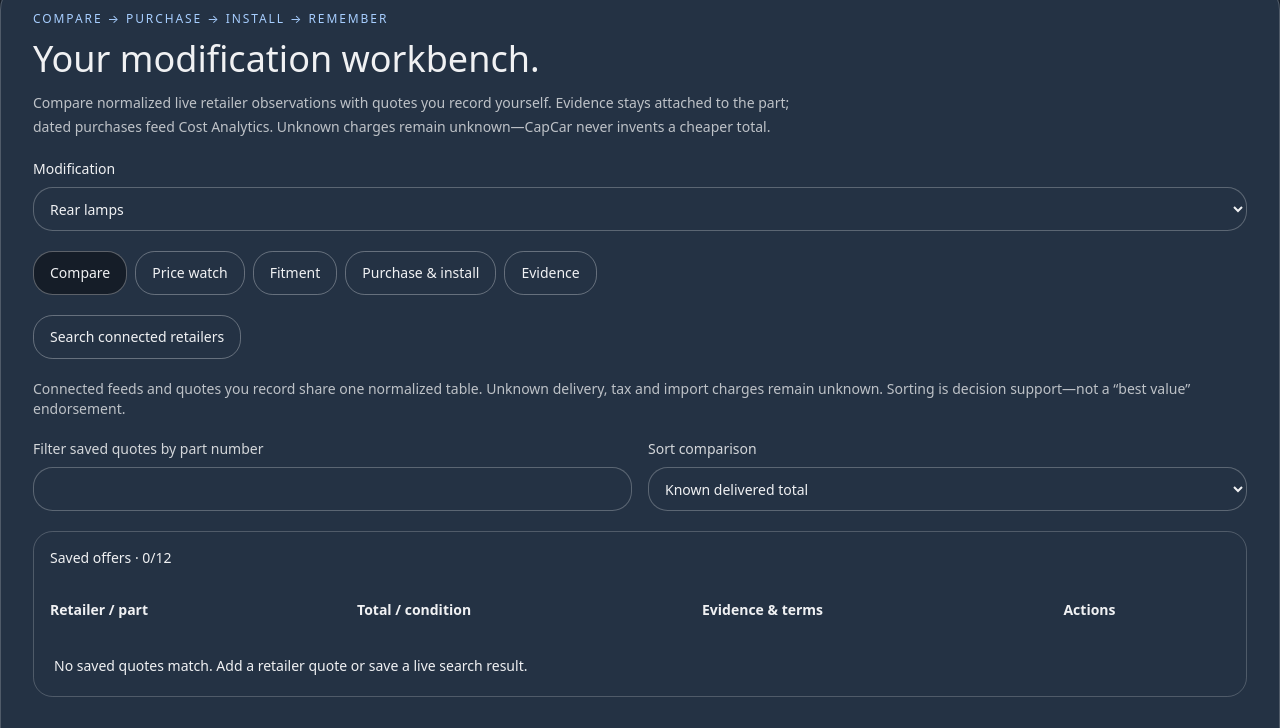
Test: build workbench interaction › preserves entered dates after an invalid sequence
Click the button "Purchase & install": (421, 273) [345,251,496,295]
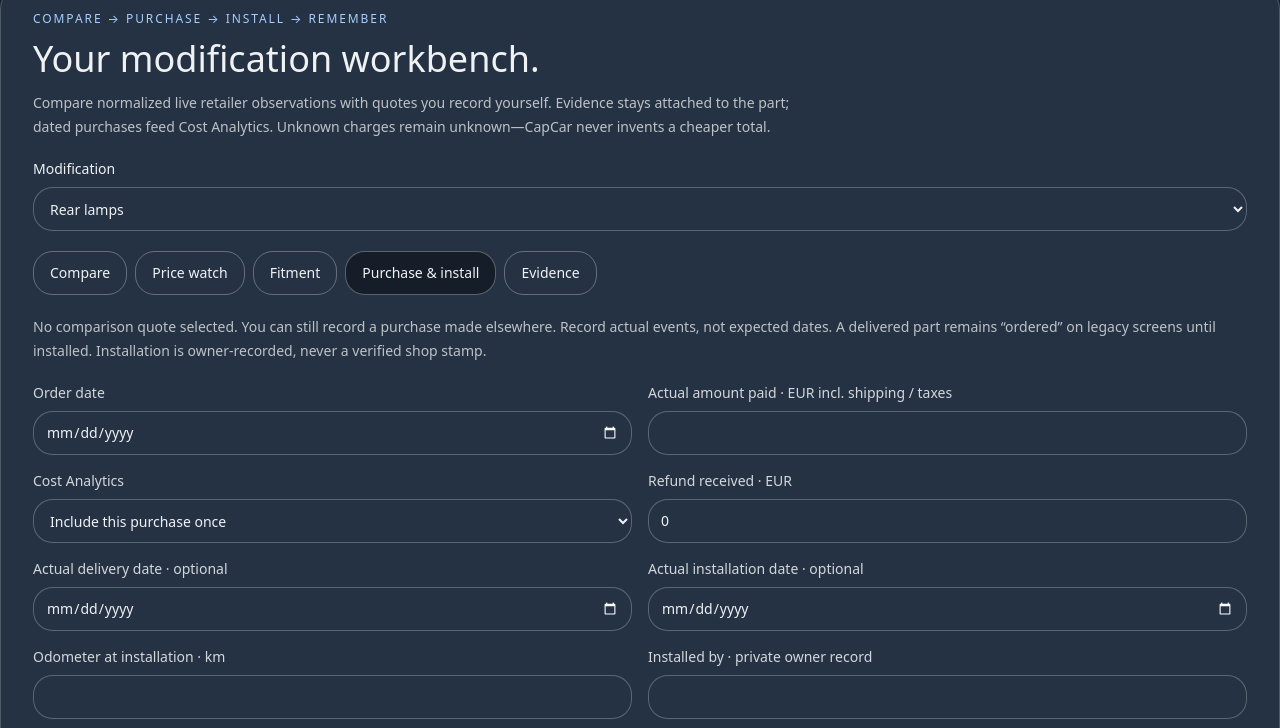
In the date field labelled "Order date": (332, 433) [33,411,632,455], type "2026-09-03"
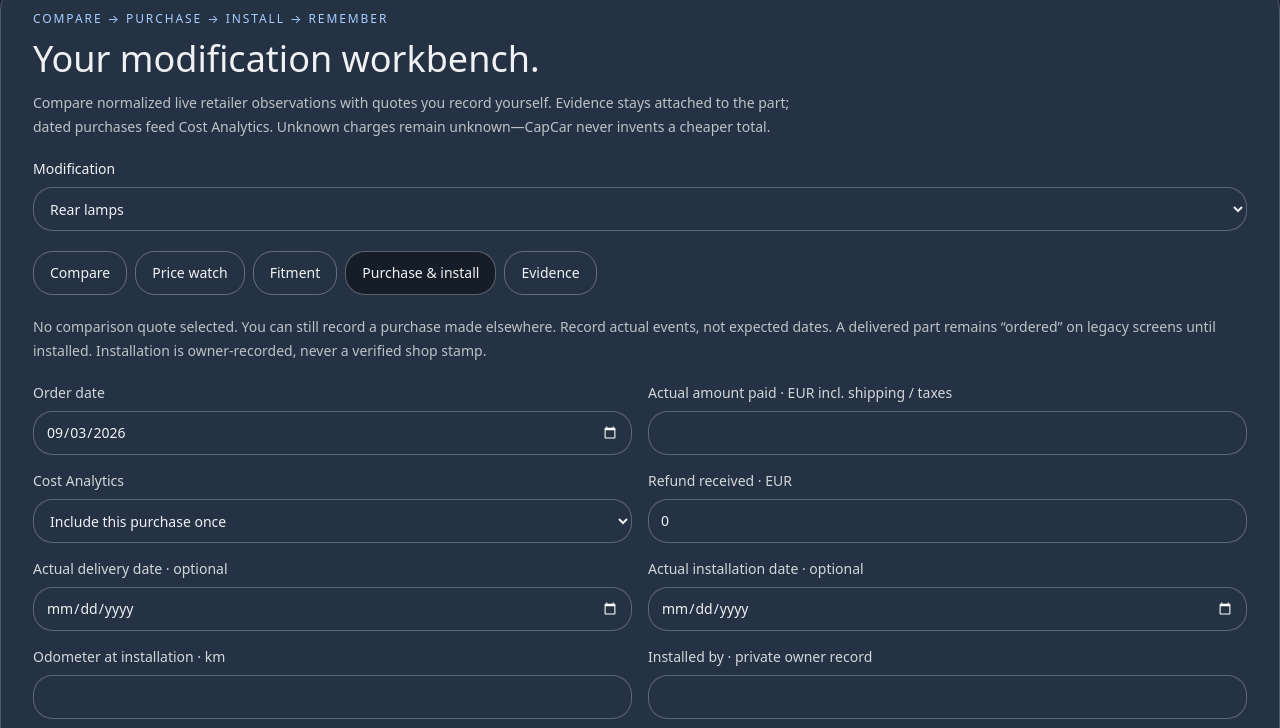
In the number field labelled "Actual amount paid · EUR incl. shipping / taxes": (948, 433) [648,411,1247,455], type "210"
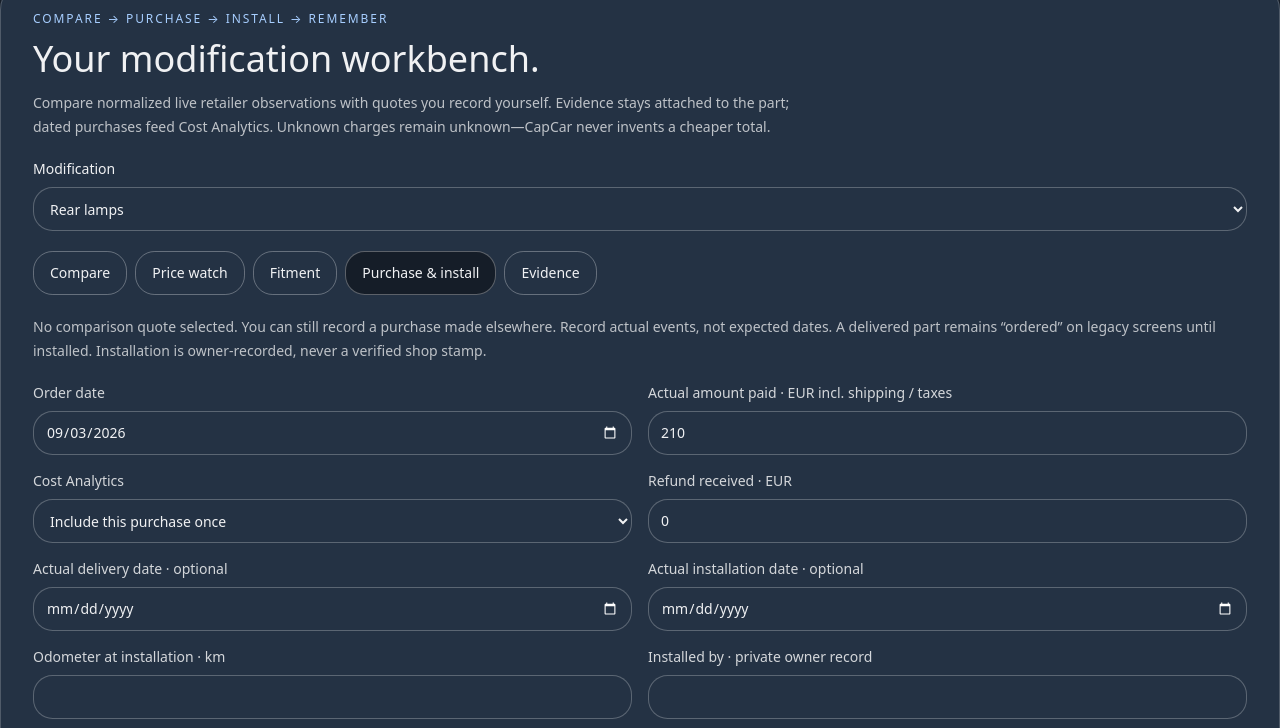
In the date field labelled "Actual delivery date · optional": (332, 609) [33,587,632,631], type "2026-09-01"
(page scrolled)
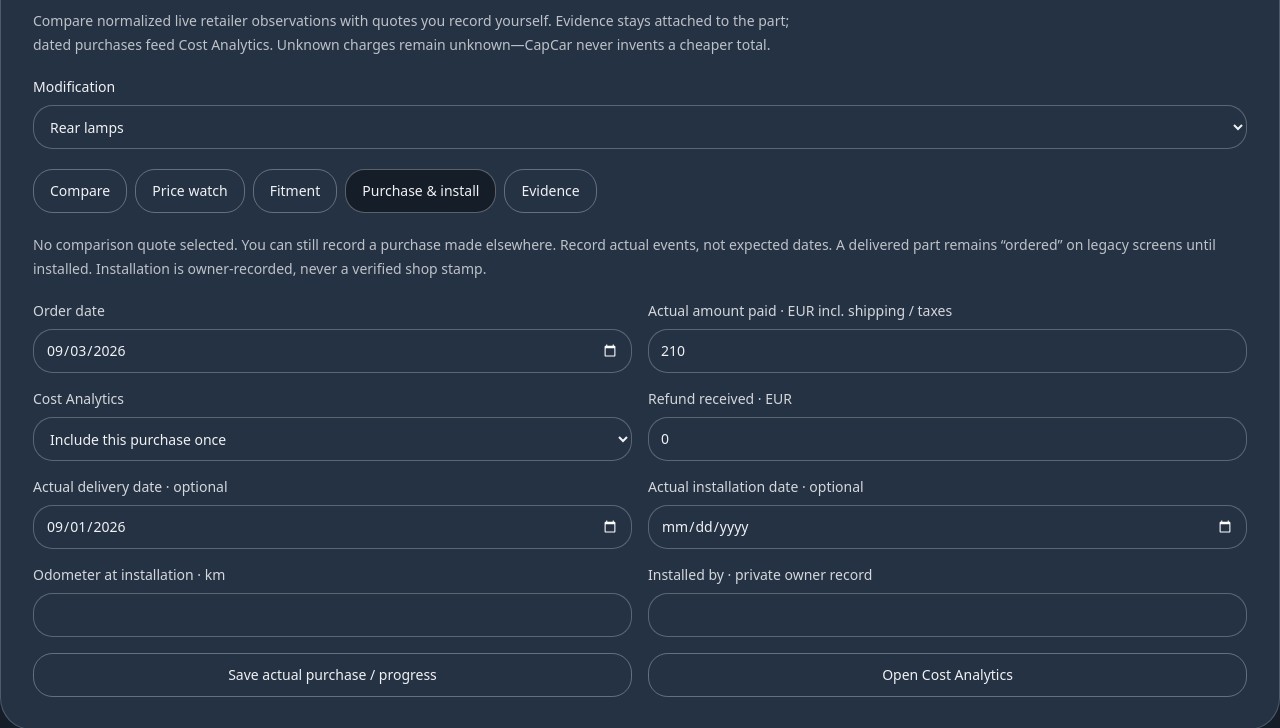
Click the button "Save actual purchase / progress": (332, 675) [33,653,632,697]
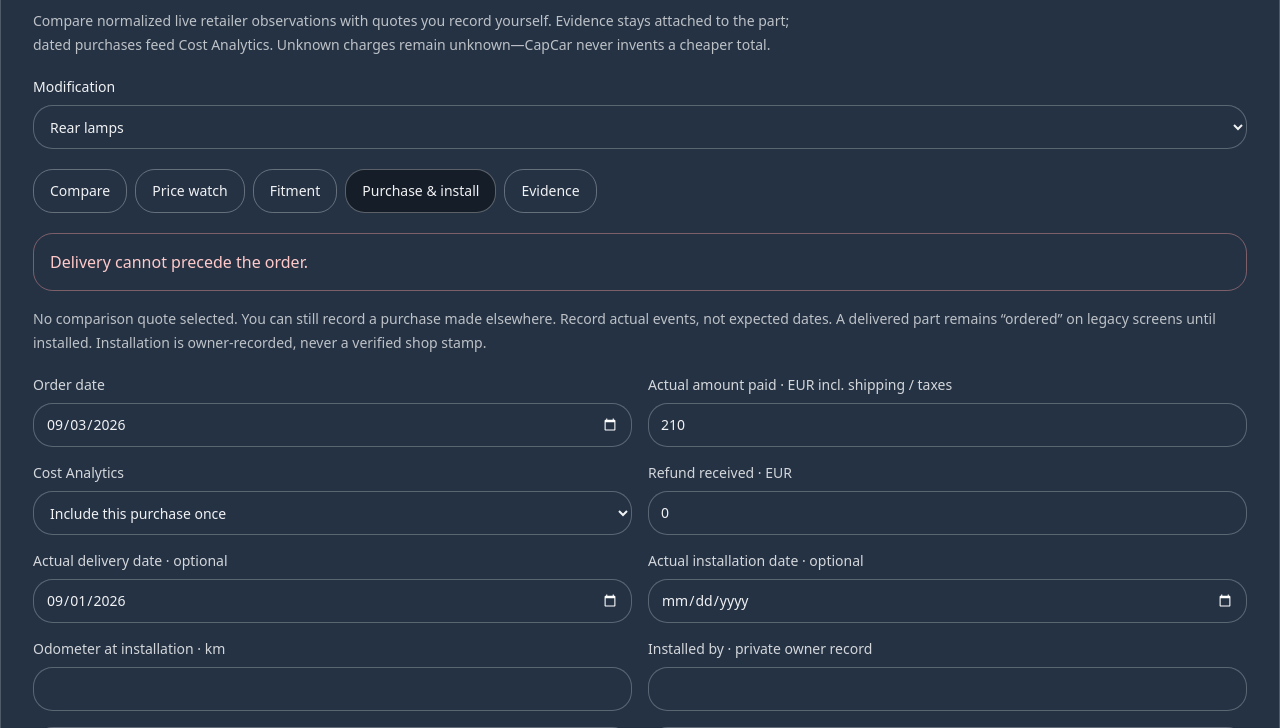
expect the message shows "Delivery cannot precede": met, box [50,251,308,273]
